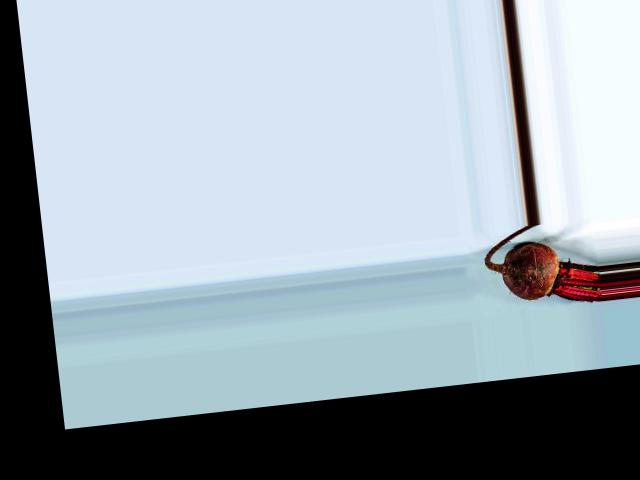beet: (481, 218, 604, 313)
